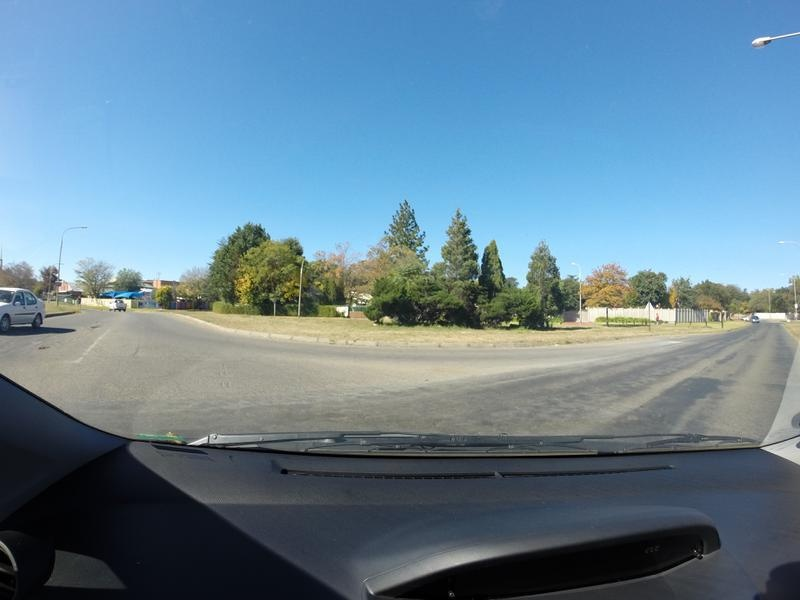pothole: (32, 340, 53, 357), (83, 318, 101, 337)
